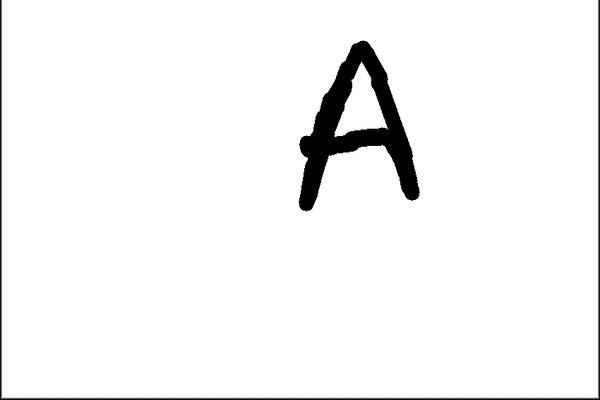A: (283, 34, 435, 219)
